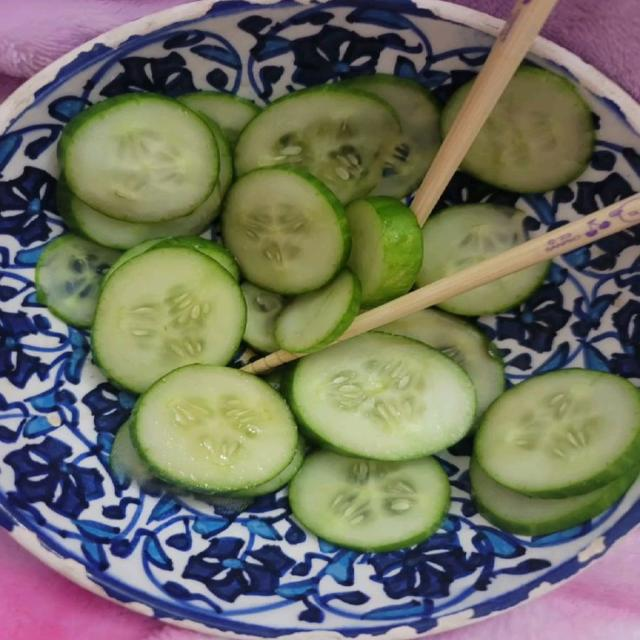cucumber sliced: (287, 333, 475, 460), (92, 247, 246, 392), (133, 365, 298, 492), (475, 370, 639, 497), (59, 94, 218, 222), (235, 85, 400, 202), (461, 67, 594, 193), (223, 167, 351, 294), (289, 451, 450, 551), (379, 309, 505, 415), (470, 460, 638, 535), (343, 74, 440, 197), (57, 178, 221, 249), (417, 204, 526, 286), (347, 197, 422, 306), (36, 234, 119, 326), (274, 270, 360, 352), (105, 236, 239, 281), (179, 92, 260, 146), (234, 438, 306, 497), (150, 236, 239, 281), (241, 282, 285, 352), (199, 112, 233, 197), (110, 421, 155, 485), (103, 238, 162, 285), (264, 366, 292, 392)
